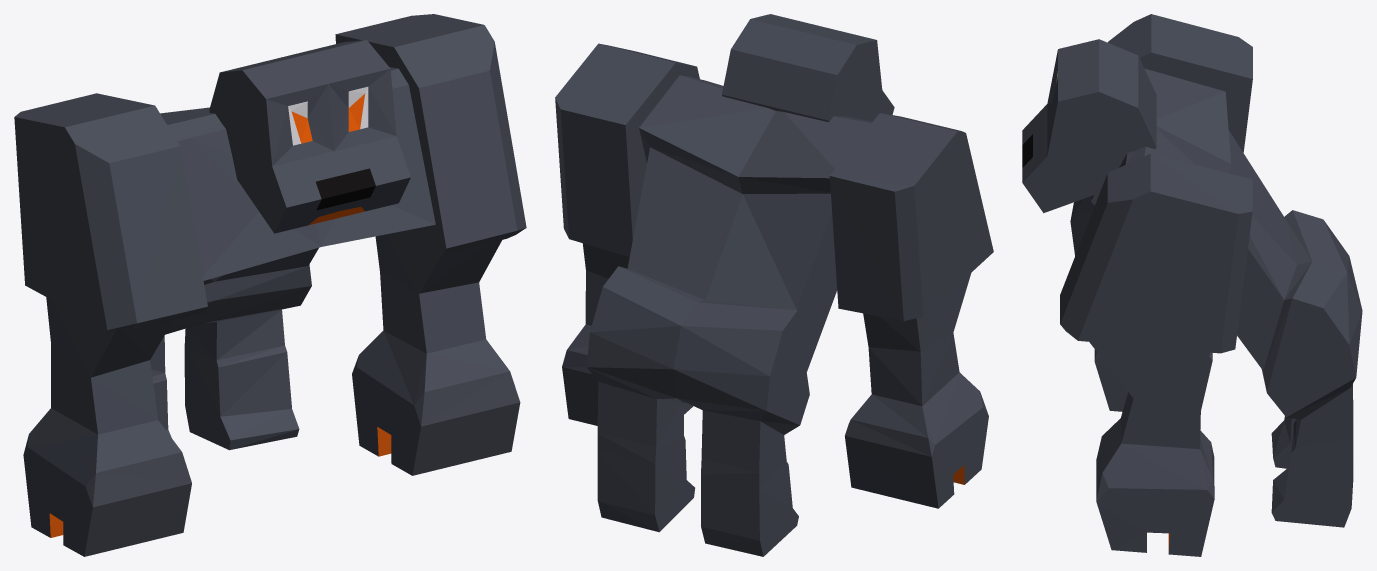
File: kong_000013.obj
3 views of the same model, side by side, from view 1: azimuth 30°, elevation 25°; view 2: azimuth 150°, elevation 25°; view 3: azimuth 270°, elevation 25° (orthographic). The views are drawn at different scales.
Visible parts, largest first — view 1: Cube; view 2: Cube; view 3: Cube.
Part boxes in pixels (x1,y1,x2,y2): Cube: (14, 14, 526, 556); Cube: (555, 14, 993, 556); Cube: (1022, 14, 1362, 556).
Bounding box in the file's own units: 5.84 × 6.31 × 4.6.
Materials: 1 (1 with a texture image).
